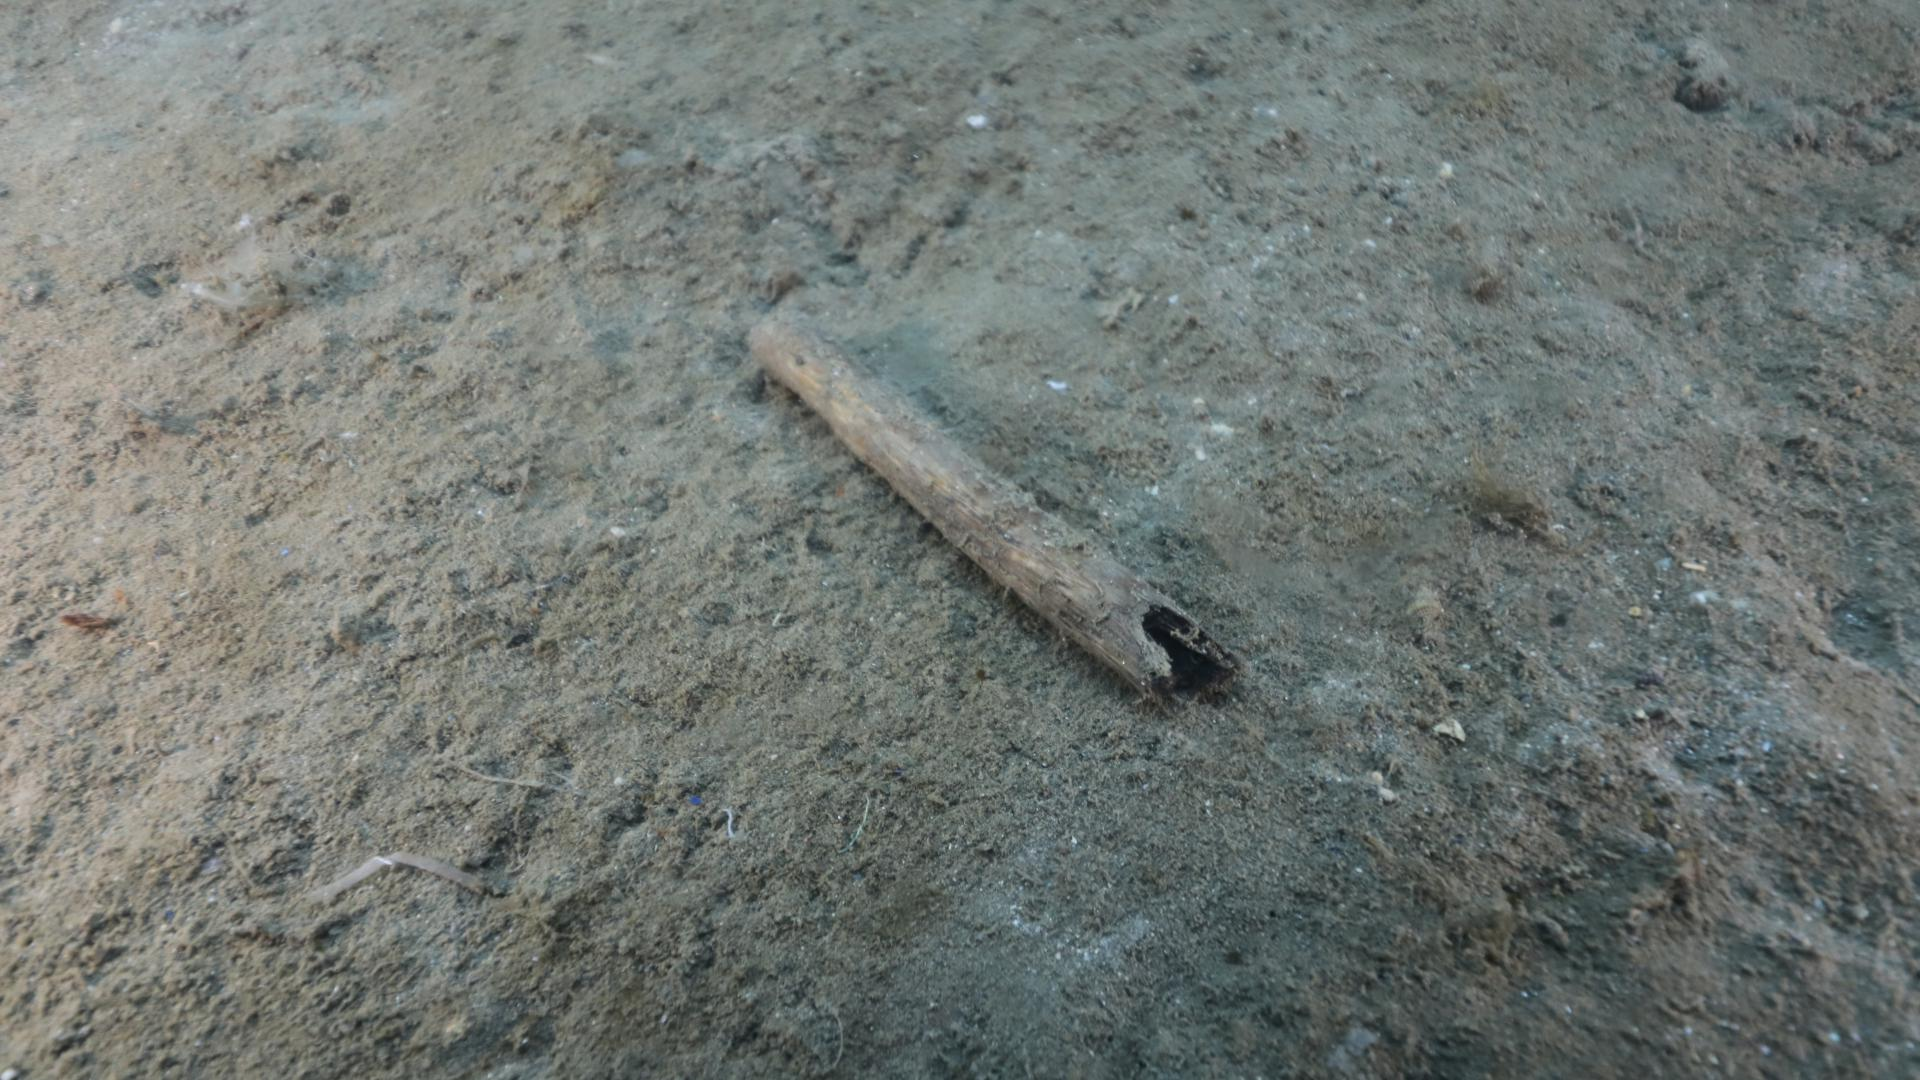wood: (744, 318, 1245, 717)
